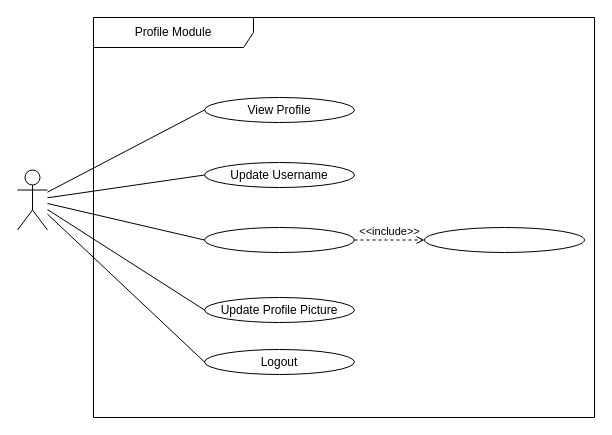
Image size: 612x435. Some labels were removed from this diagram. Each missing label, with the centre of its shape:
Change Password: point 279,239
User: point 32,199
Validate Current Password: point 504,239
